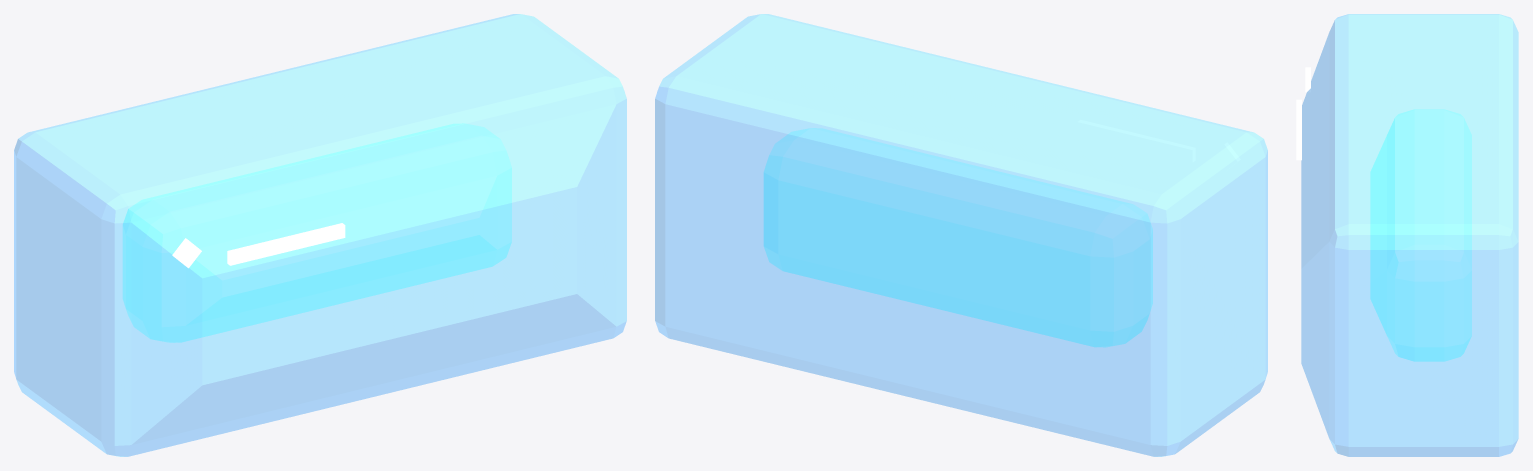
The model's file is brick.glb.
3 renders of one model, left to right at view 1: azimuth 30°, elevation 25°; view 2: azimuth 150°, elevation 25°; view 3: azimuth 270°, elevation 25°, orthographic. The views are drawn at different scales.
Parts seen in each view (by area): view 1: brick; view 2: brick; view 3: brick.
Part boxes in pixels (x1,y1,x2,y2): brick: (14, 14, 626, 456); brick: (655, 14, 1267, 456); brick: (1296, 14, 1518, 456).
Size of the model in its own units: 0.96 by 0.46 by 0.399.
